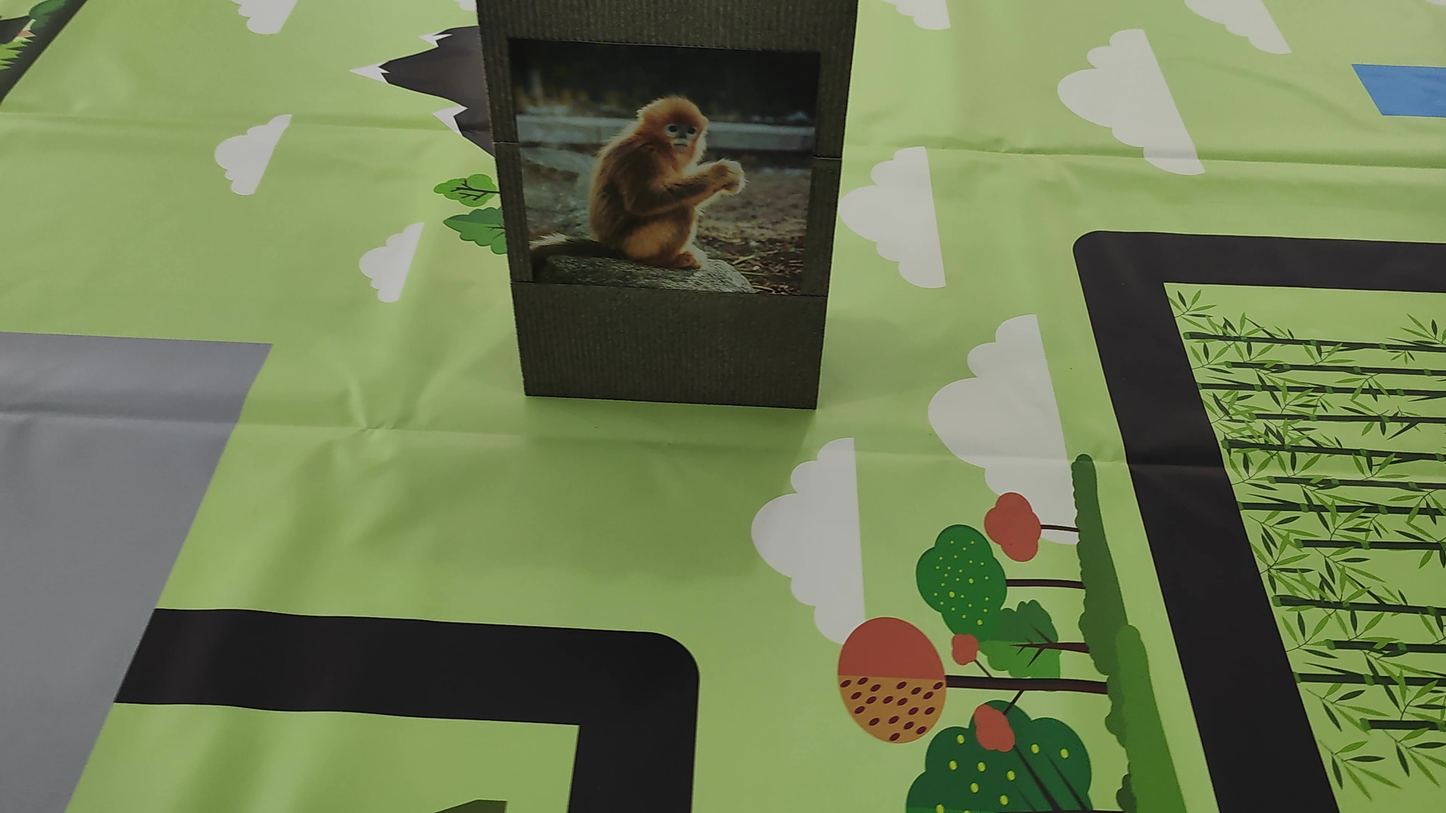monkey: (546, 66, 776, 292)
